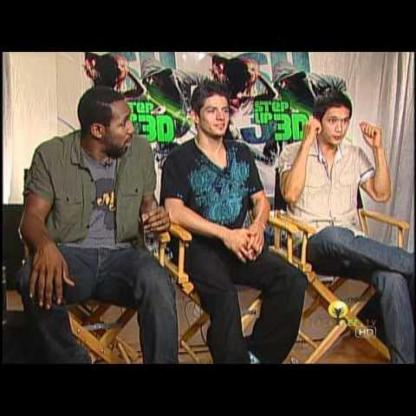face: (102, 101, 136, 154), (202, 94, 231, 138), (323, 108, 350, 144)
